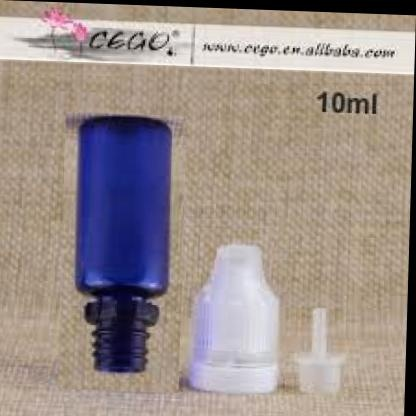trash: (76, 116, 171, 371), (189, 244, 278, 393), (297, 308, 344, 394)
